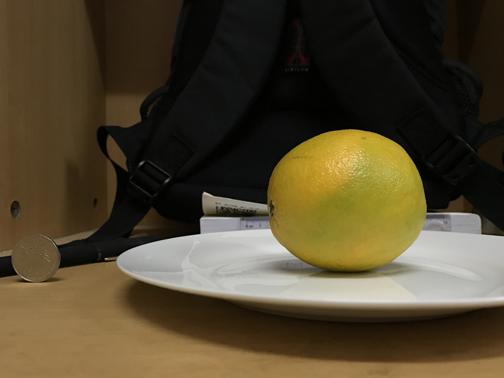coin: (11, 233, 61, 283)
orange: (266, 130, 426, 270)
